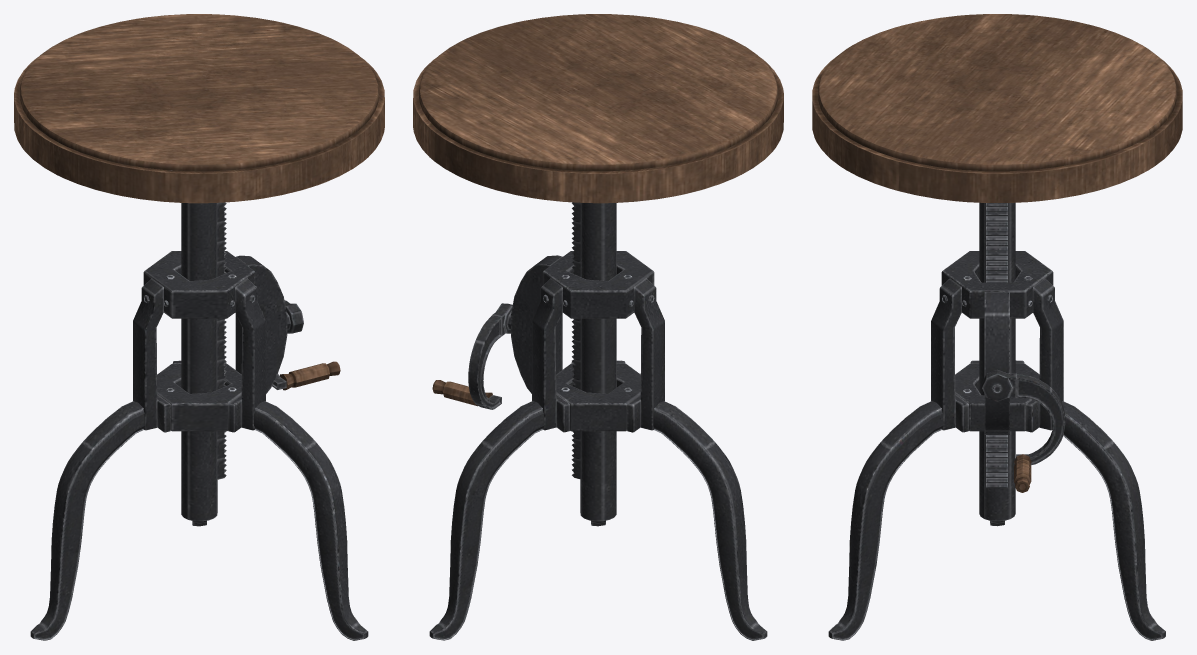
The picture shows the model from 3 angles, left to right: view 1: azimuth 30°, elevation 25°; view 2: azimuth 150°, elevation 25°; view 3: azimuth 270°, elevation 25°; orthographic projection.
Parts seen in each view (by area): view 1: Cylinder, Cylinder.001, Cube.002, Cube.005, Cylinder.006, Cube.004, Cube.001, Cylinder.002, handle, Cube, Cylinder.020; view 2: Cylinder, Cylinder.001, Cube.007, Cube.002, Cylinder.006, Cube.001, Cube.006, Cylinder.002, handle, Cylinder.019, Cube, Cylinder.020; view 3: Cylinder, Cube.005, Cube.007, Cylinder.001, handle, Cube.004, Cylinder.006, Cube.006, Cube, Cylinder.002, Cylinder.019, Cylinder.020.
Boxes of the visible parts, x1,y1,x2,y2 form: Cylinder: (14,14,384,203); Cylinder.001: (181,203,217,521); Cube.002: (30,401,144,640); Cube.005: (254,401,368,640); Cylinder.006: (143,251,255,318); Cube.004: (228,278,265,432); Cube.001: (133,278,170,432); Cylinder.002: (157,363,241,431); handle: (235,255,303,393); Cube: (217,202,226,479); Cylinder.020: (280,361,340,390); Cylinder: (413,14,783,203); Cylinder.001: (580,203,616,521); Cube.007: (429,401,543,640); Cube.002: (653,401,767,640); Cylinder.006: (542,251,654,318); Cube.001: (627,278,664,432); Cube.006: (532,278,569,432); Cylinder.002: (556,363,640,431); handle: (493,255,562,393); Cylinder.019: (468,314,501,409); Cube: (571,202,580,479); Cylinder.020: (432,380,492,406); Cylinder: (812,14,1182,202); Cube.005: (828,401,942,640); Cube.007: (1052,401,1165,640); Cylinder.001: (979,202,1015,521); handle: (982,292,1015,434); Cube.004: (931,278,968,432); Cylinder.006: (941,251,1053,318); Cube.006: (1026,278,1063,432); Cube: (986,203,1007,487); Cylinder.002: (955,363,1039,431); Cylinder.019: (1016,373,1065,465); Cylinder.020: (1014,454,1031,492).
Size of the model in its own units: 200 by 299 by 196.
Materials: 1 (1 with a texture image).
